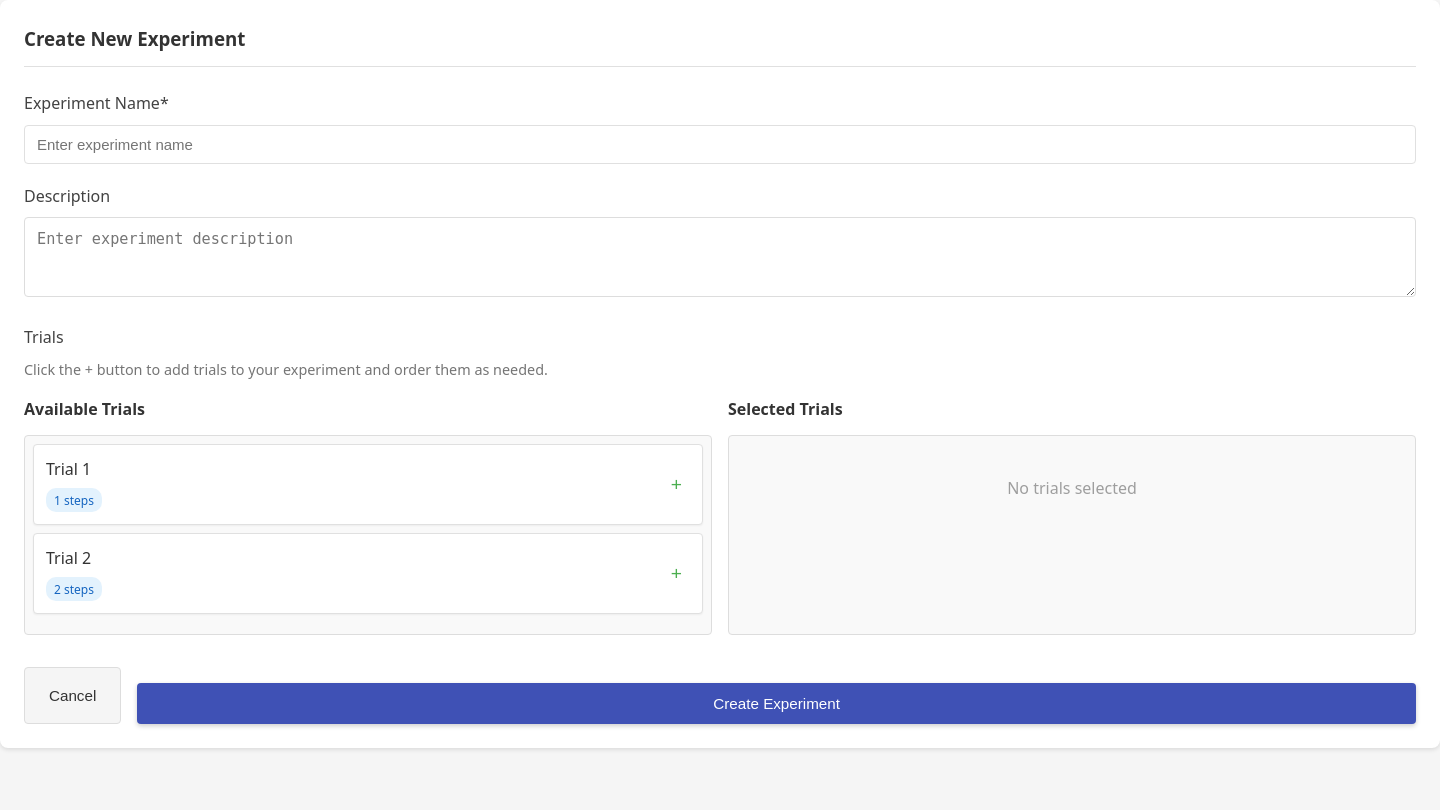
ExperimentForm Component › Trial Management › removes trial from selected list
Expected: the text "Trial 1" is shown, [46,458,91,480]
Add trial
Step 1. Click the button "+" in the row of "Trial 1" → [676, 484], box [663,474,690,496]
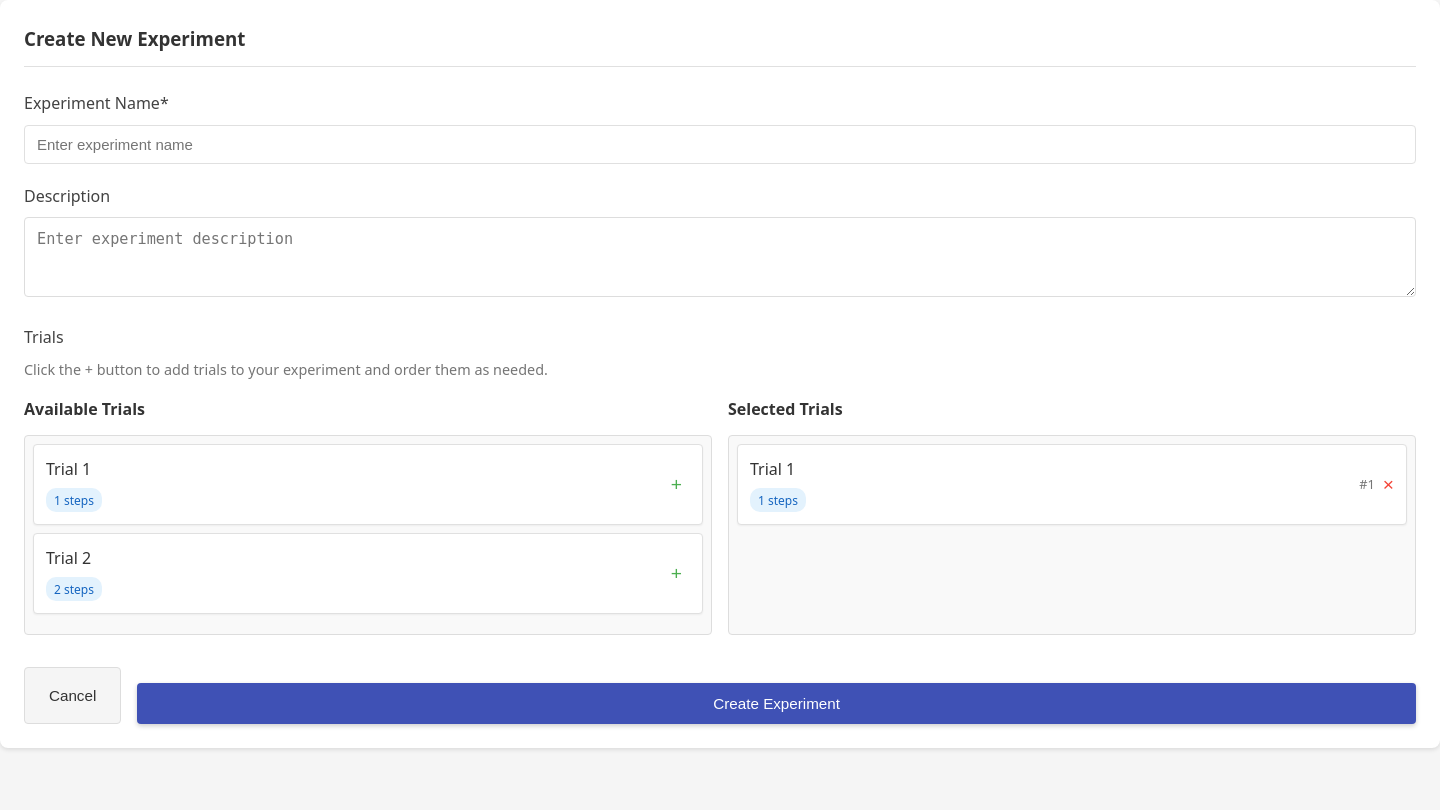
Now the text "#1" is shown, box [1359,474,1375,495]
Remove trial
Step 2. Click the button "×" → [1388, 484], box [1383,474,1394,496]
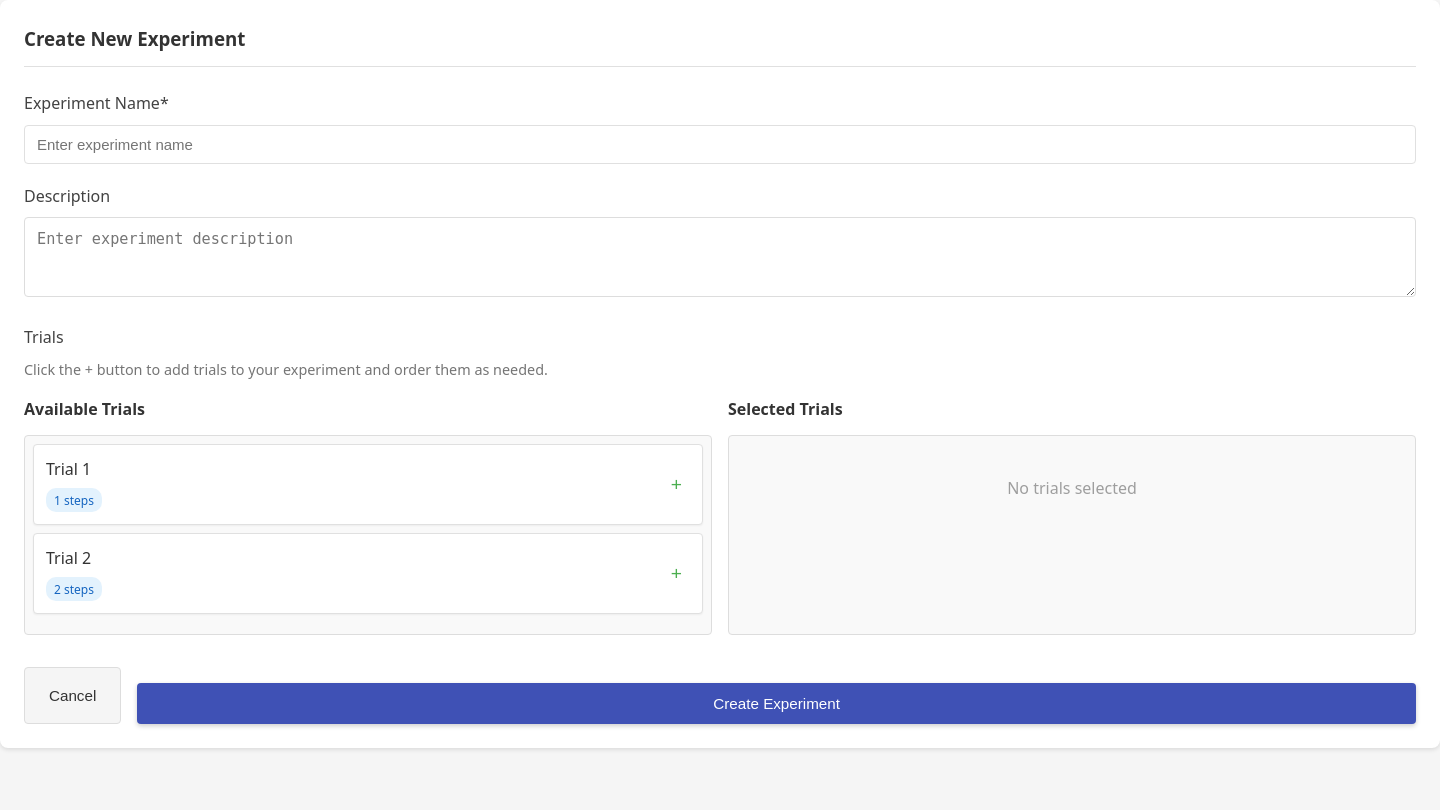
Now the text "No trials selected" is shown, box [1007,477,1137,499]
